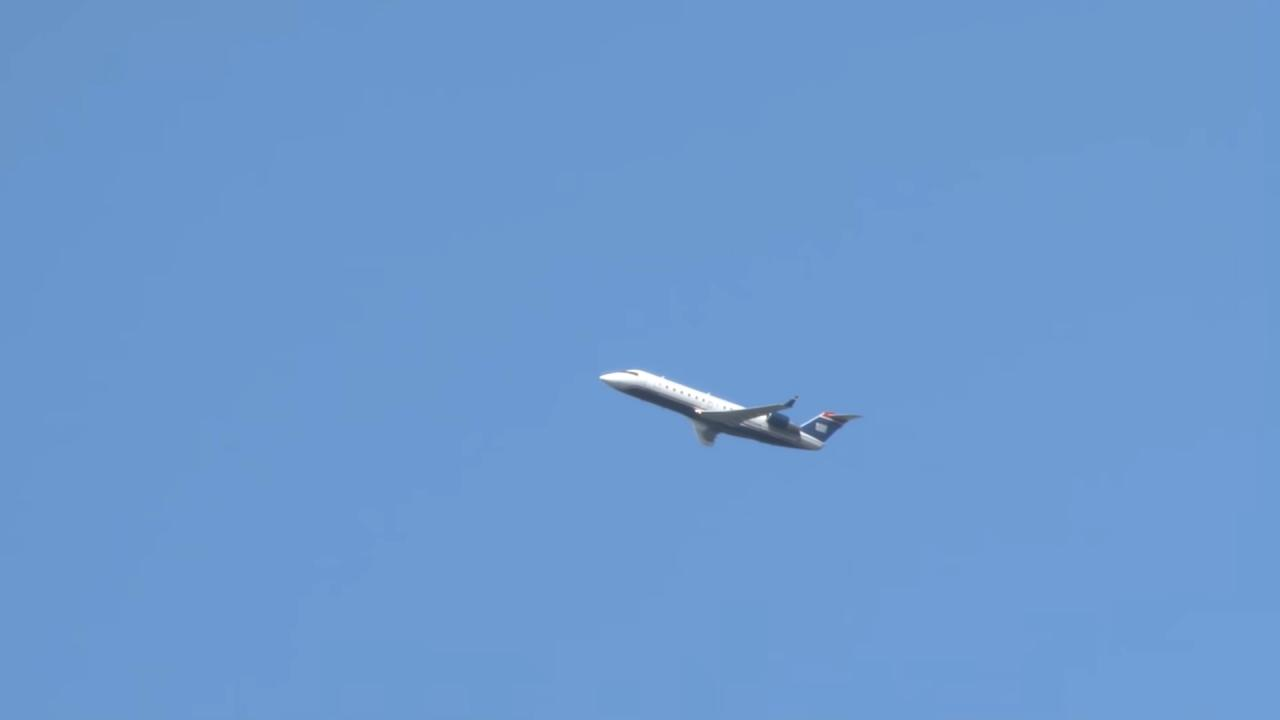Airplane: (591, 354, 869, 465)
